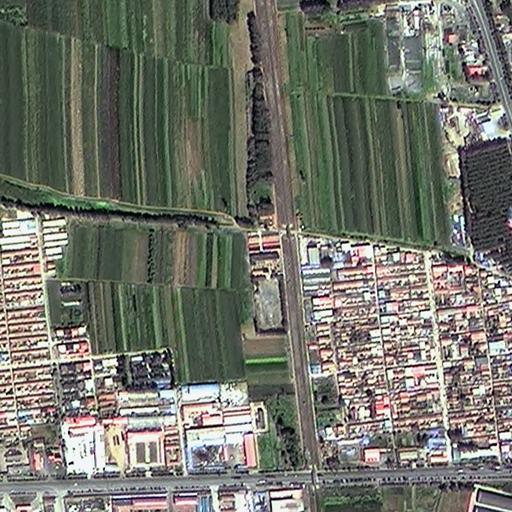school: (247, 231, 287, 335)
